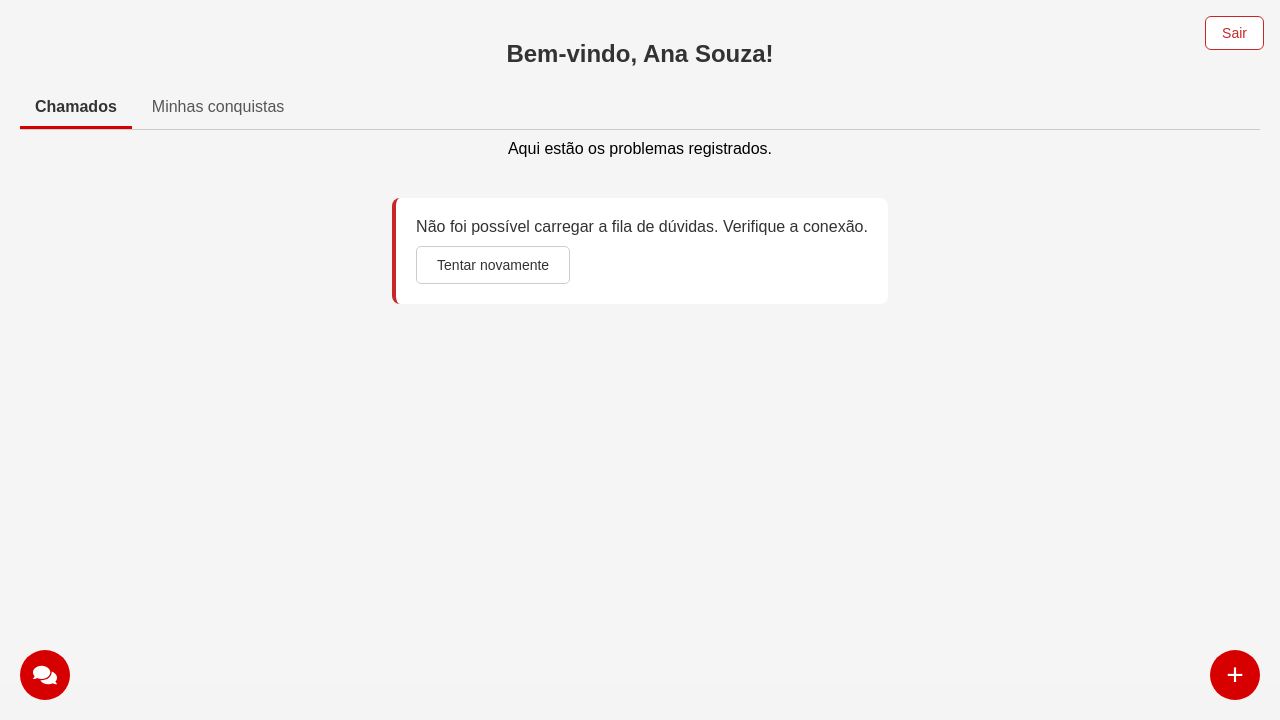
a fila nas telas de verdade (AC-ANIM-04, AC-CHAMADO-09) › "tentar novamente" refaz a inscrição e a fila carrega
This screenshot has width=1280, height=720.
Check: the message is shown, box [392, 198, 888, 304]
Click the button "Tentar novamente" at x=493, y=265, box [416, 246, 570, 284]
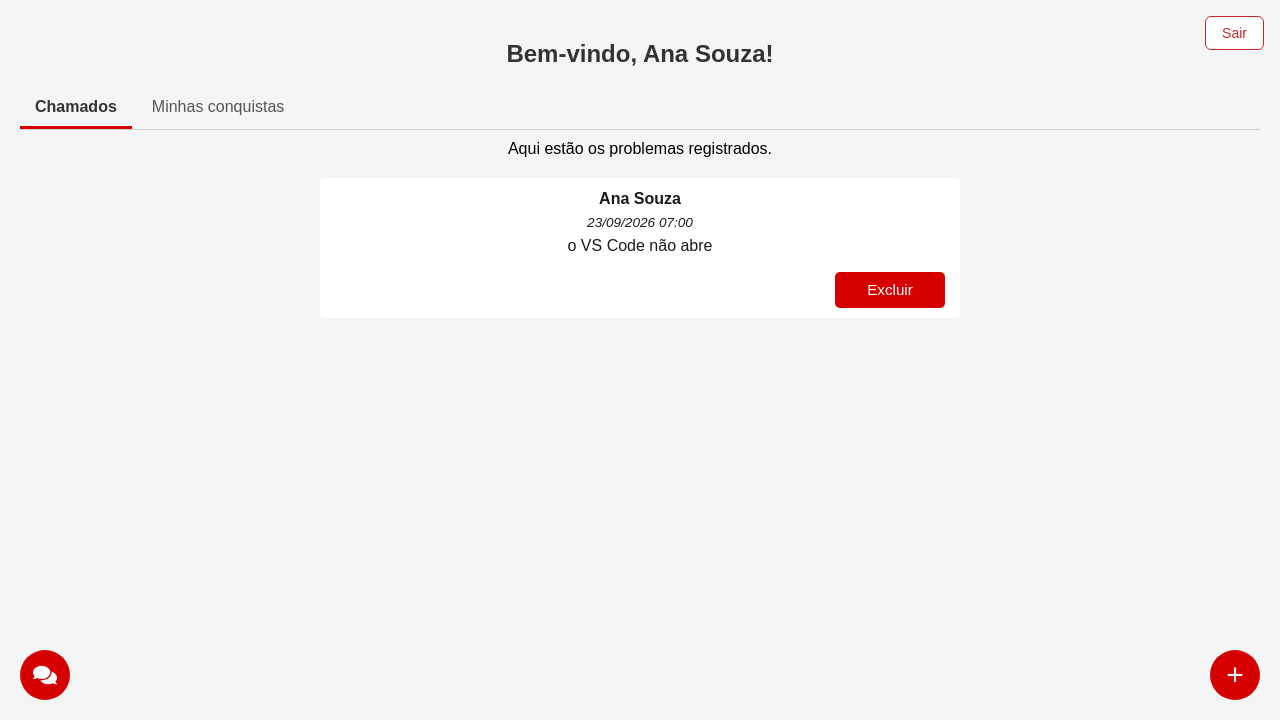
Check: the text "o VS Code não abre" is shown, box [568, 237, 712, 254]
